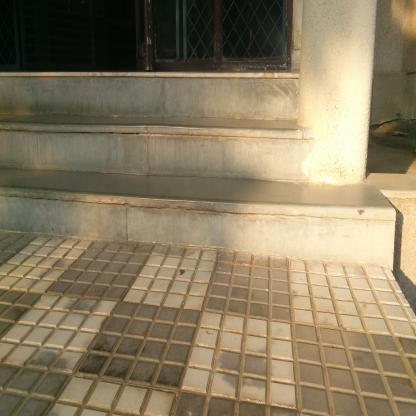stairs: (42, 70, 254, 256)
